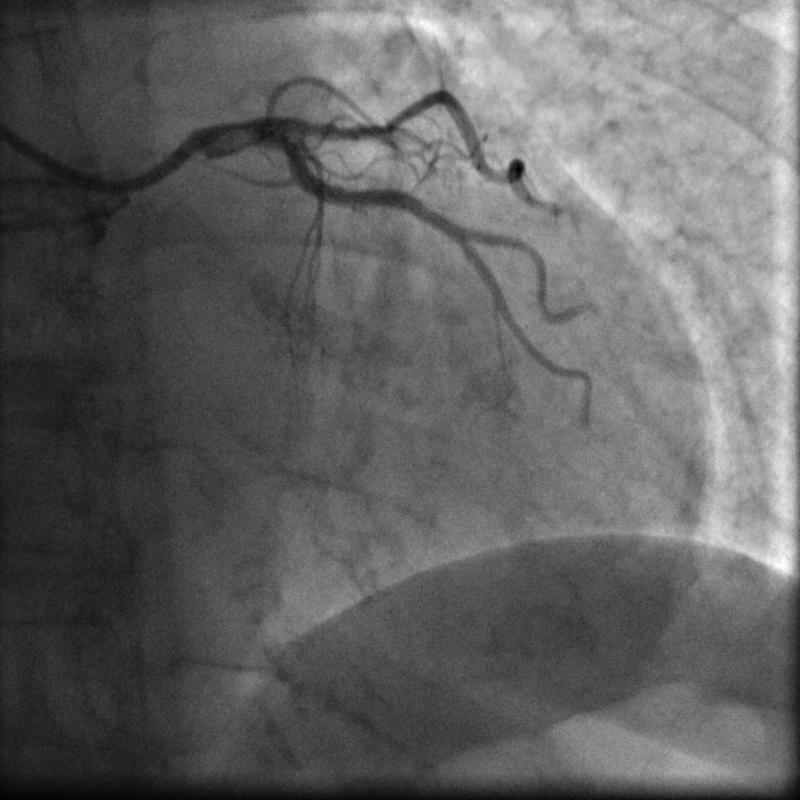Stenosis: (334, 122, 356, 139)
